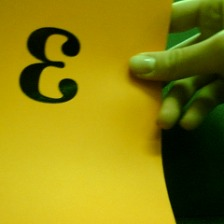orange3: (12, 21, 84, 108)
